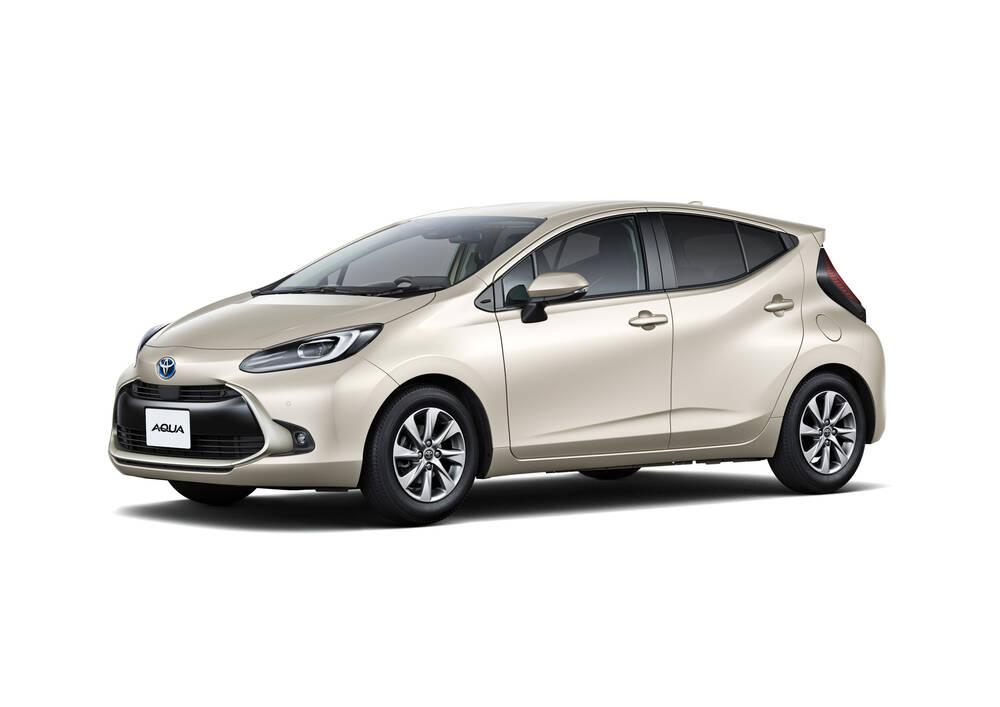Hatchback: (103, 160, 910, 550)
